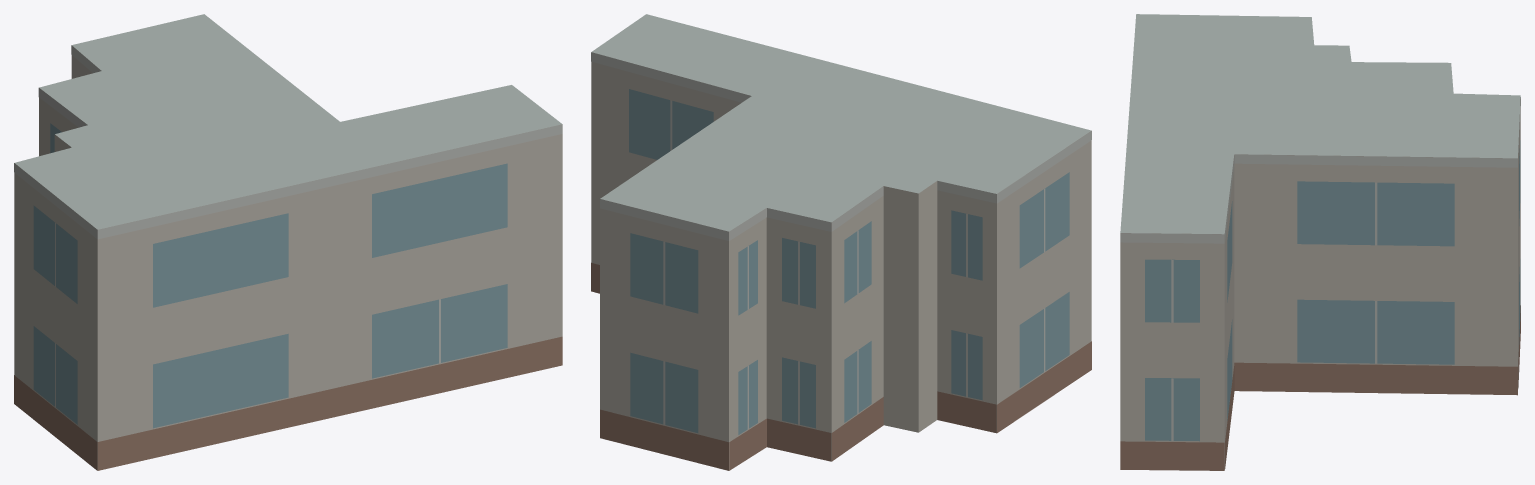
File: survey-upis-32884014.glb
The picture shows the model from 3 angles, left to right: view 1: azimuth 30°, elevation 25°; view 2: azimuth 150°, elevation 25°; view 3: azimuth 270°, elevation 25°; orthographic projection.
Parts seen in each view (by area): view 1: survey-upis-32884014.tmp; view 2: survey-upis-32884014.tmp; view 3: survey-upis-32884014.tmp.
Boxes of the visible parts, box(x1,y1,x2,y2) form: survey-upis-32884014.tmp: box(14, 14, 562, 470); survey-upis-32884014.tmp: box(591, 14, 1091, 470); survey-upis-32884014.tmp: box(1120, 14, 1520, 470).
Size of the model in its own units: 12.18 by 6.1 by 9.36.
